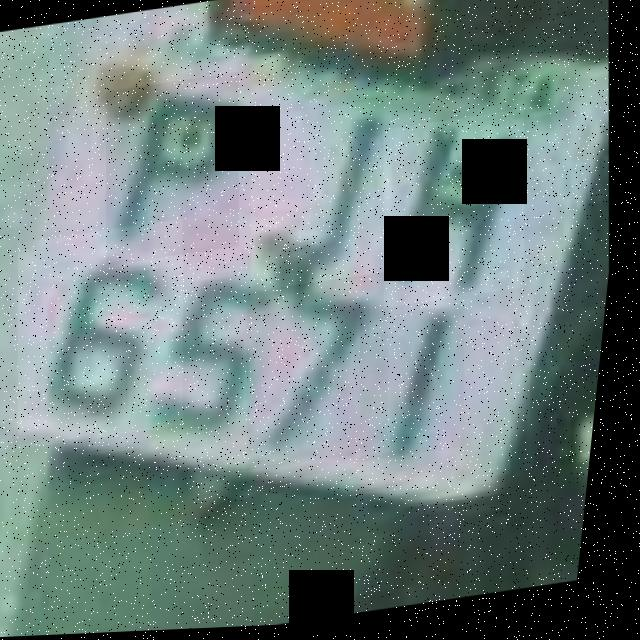1: (355, 308, 486, 466)
5: (117, 248, 320, 456)
6: (6, 220, 209, 450)
7: (239, 274, 412, 474)
H: (372, 113, 546, 312)
J: (239, 100, 412, 295)
P: (93, 73, 259, 267)
